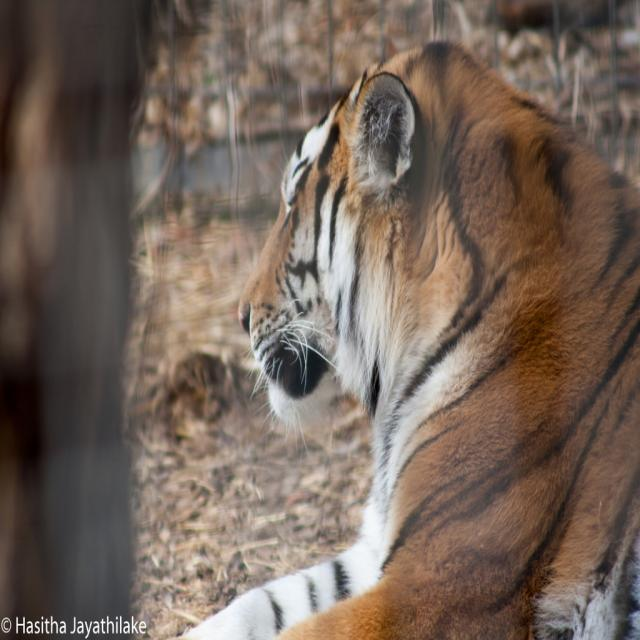Tiger: (183, 38, 640, 639)
